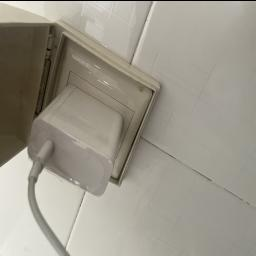outlet: (24, 15, 168, 192)
